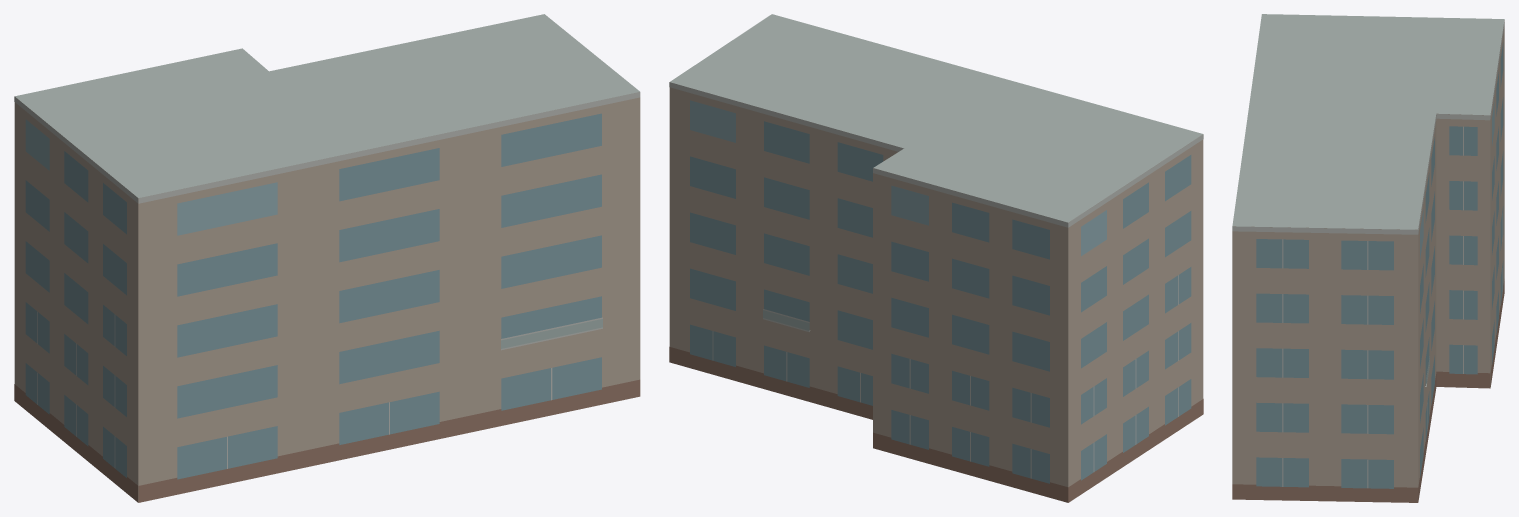
Rendered from survey-upis-32914855.glb.
3 renders of one model, left to right at view 1: azimuth 30°, elevation 25°; view 2: azimuth 150°, elevation 25°; view 3: azimuth 270°, elevation 25°, orthographic. The views are drawn at different scales.
Visible parts, largest first — view 1: survey-upis-32914855.tmp; view 2: survey-upis-32914855.tmp; view 3: survey-upis-32914855.tmp.
Part boxes in pixels (x1,y1,x2,y2): survey-upis-32914855.tmp: (14,14,640,502); survey-upis-32914855.tmp: (669,14,1203,502); survey-upis-32914855.tmp: (1232,14,1504,502).
Bounding box in the file's own units: 22.63 × 13.35 × 12.07.
